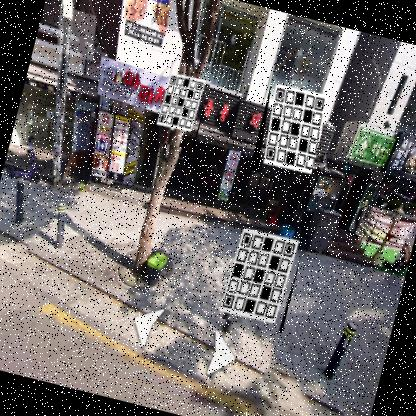qncode: (218, 215, 308, 335), (249, 77, 333, 186), (150, 62, 214, 152)
